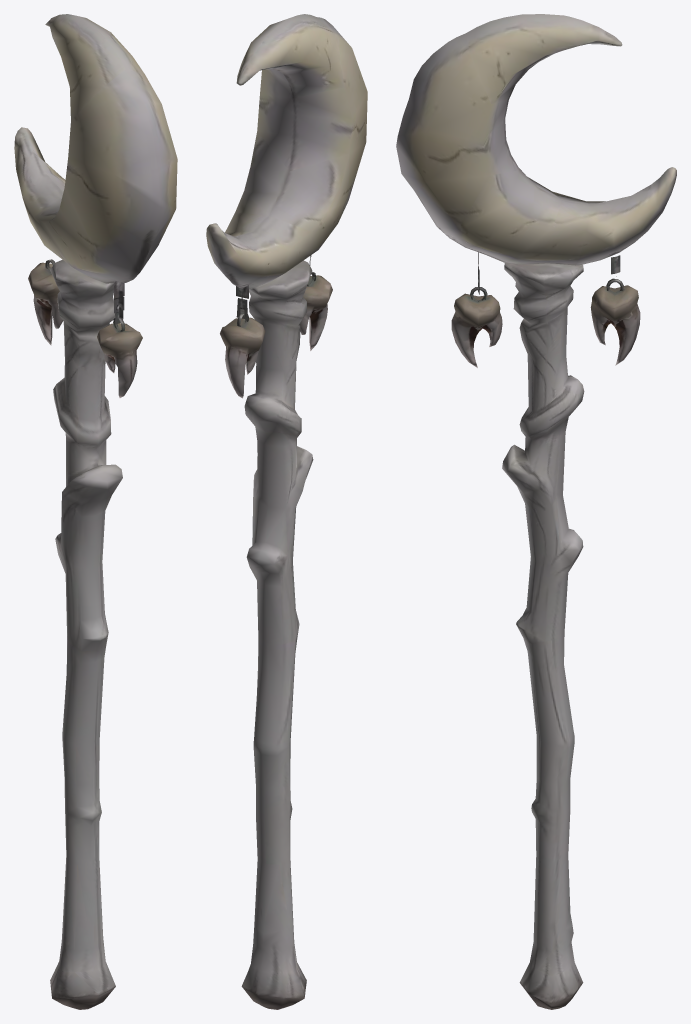
Rendered from staff_epic_moonfang_lunar_tide.glb.
3 renders of one model, left to right at view 1: azimuth 30°, elevation 25°; view 2: azimuth 150°, elevation 25°; view 3: azimuth 270°, elevation 25°, orthographic.
Parts seen in each view (by area): view 1: tripo_node_5d862c8f-f5b9-4fdc-8b4b-d818df3fb9dd; view 2: tripo_node_5d862c8f-f5b9-4fdc-8b4b-d818df3fb9dd; view 3: tripo_node_5d862c8f-f5b9-4fdc-8b4b-d818df3fb9dd.
Part boxes in pixels (x1=…): tripo_node_5d862c8f-f5b9-4fdc-8b4b-d818df3fb9dd: x1=14, y1=14, x2=177, y2=1009; tripo_node_5d862c8f-f5b9-4fdc-8b4b-d818df3fb9dd: x1=206, y1=14, x2=367, y2=1009; tripo_node_5d862c8f-f5b9-4fdc-8b4b-d818df3fb9dd: x1=396, y1=14, x2=676, y2=1009.
Size of the model in its own units: 0.2306 by 2.28 by 0.5848.
1 material, 1 textured.
